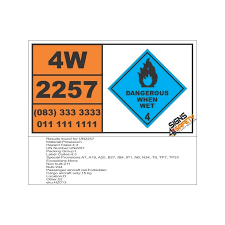DangerousWhenWet: (108, 48, 186, 127)
